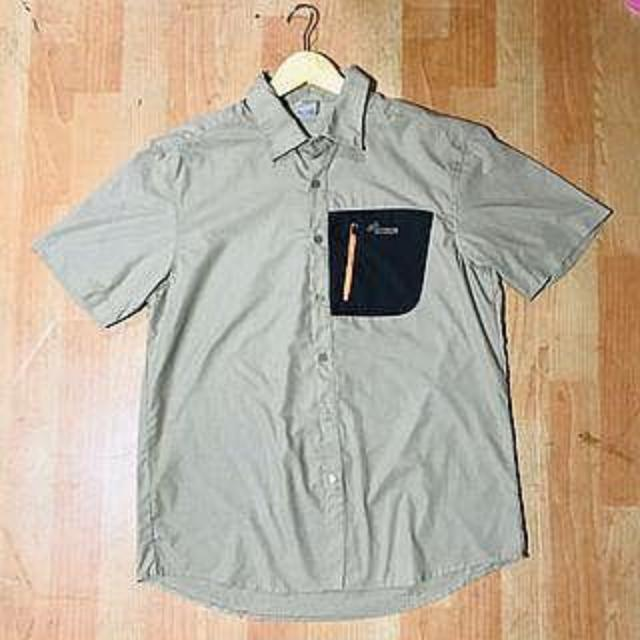SHIRT: (23, 56, 620, 621)
